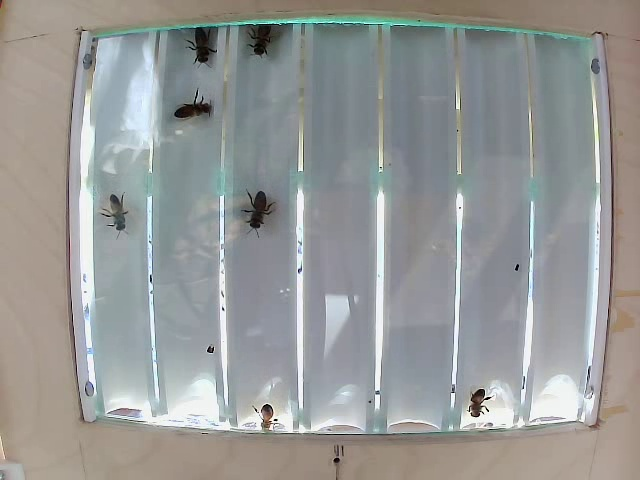bee: (170, 87, 215, 135), (242, 185, 280, 234), (103, 188, 140, 234), (194, 32, 225, 76), (251, 21, 274, 58)
